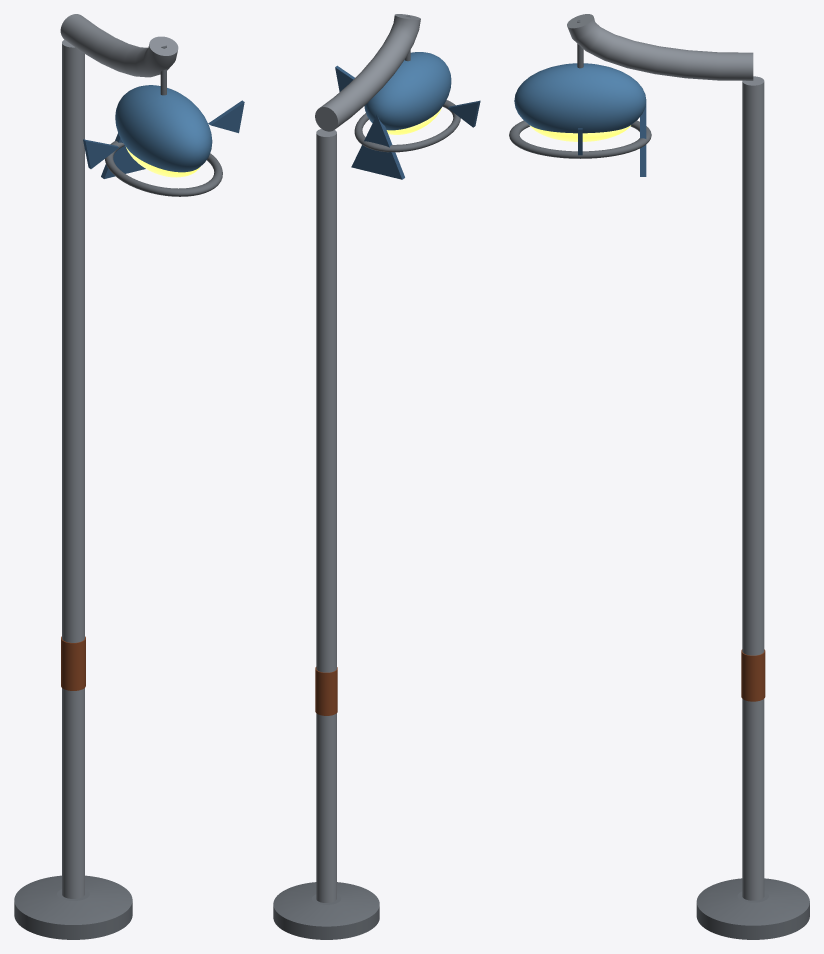
Rendered from zc_street_lamp.unreal.fbx.
3 renders of one model, left to right at view 1: azimuth 30°, elevation 25°; view 2: azimuth 150°, elevation 25°; view 3: azimuth 270°, elevation 25°, orthographic. The views are drawn at different scales.
Visible parts, largest first — view 1: zc_street_lamp, lantern; view 2: zc_street_lamp, lantern; view 3: zc_street_lamp, lantern.
Boxes of the visible parts, x1,y1,x2,y2 form: zc_street_lamp: (14, 14, 178, 939); lantern: (83, 45, 244, 196); zc_street_lamp: (273, 14, 420, 939); lantern: (335, 15, 480, 179); zc_street_lamp: (567, 14, 809, 939); lantern: (509, 20, 651, 176).
Size of what is drawn, in the model's own units: 0.56 by 3.15 by 0.9566.
Materials: 1 (1 with a texture image).
